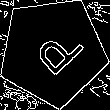P_SW: (22, 20, 84, 83)
